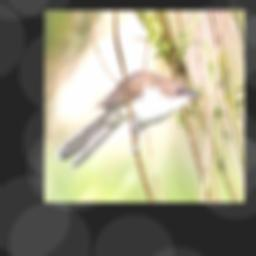Cuckoo: (55, 70, 201, 169)
